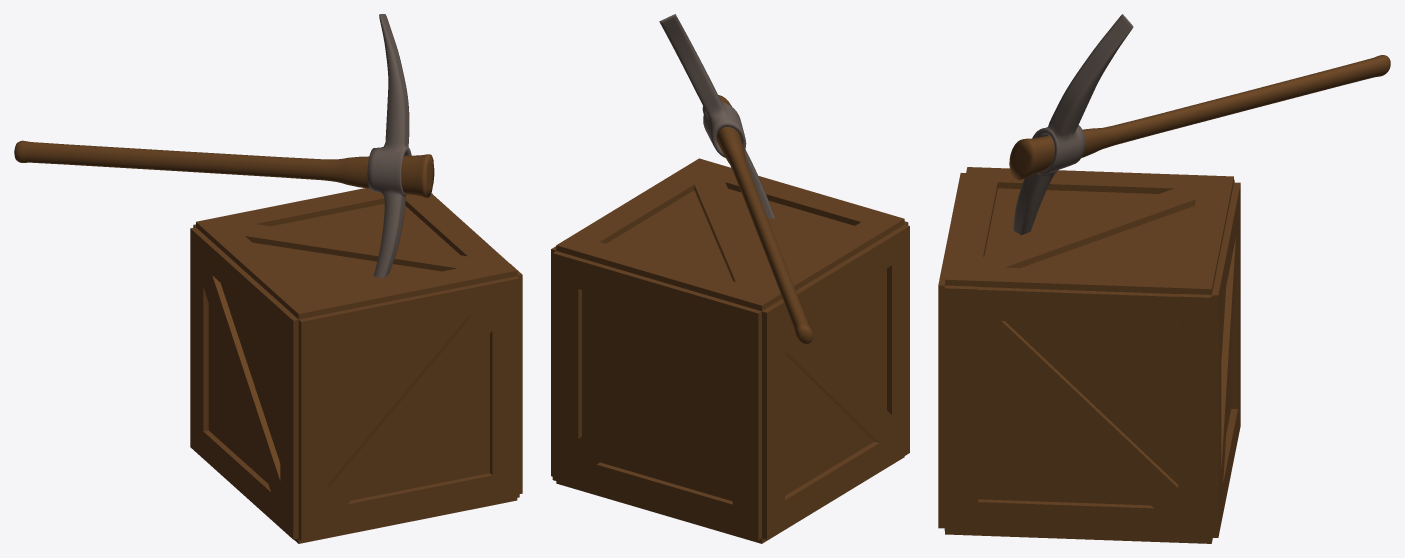
File: pick axe on the crate.fbx
3 views of the same model, side by side, from view 1: azimuth 30°, elevation 25°; view 2: azimuth 150°, elevation 25°; view 3: azimuth 270°, elevation 25° (orthographic). The views are drawn at different scales.
Visible parts, largest first — view 1: Cube.153, Cylinder004.001, Cube.159, Cube.182, Cube.160, Cylinder003.001, Cube.174, Cube.173, Cube.163, Cube.181, Cube.183, Cube.158 (+8 smaller); view 2: Cube.153, Cube.166, Cube.165, Cube.184, Cube.164, Cube.177, Cube.178, Cube.163, Cube.181, Cube.157, Cube.158, Cylinder004.001 (+8 smaller); view 3: Cube.153, Cube.180, Cube.162, Cube.161, Cylinder004.001, Cube.169, Cube.170, Cylinder003.001, Cube.157, Cube.183, Cube.158, Cube.176 (+8 smaller).
Part boxes in pixels (x1,y1,x2,y2): Cube.153: (208, 204, 489, 500); Cylinder004.001: (14, 140, 434, 197); Cube.159: (298, 314, 328, 540); Cube.182: (328, 311, 492, 507); Cube.160: (490, 276, 519, 502); Cylinder003.001: (367, 14, 411, 278); Cube.174: (326, 281, 492, 343); Cube.173: (328, 473, 492, 535); Cube.163: (280, 308, 298, 539); Cube.181: (203, 267, 280, 500); Cube.183: (236, 224, 476, 271); Cube.158: (196, 216, 325, 319); Cube.153: (582, 188, 886, 501); Cube.166: (732, 304, 761, 540); Cube.165: (552, 251, 581, 487); Cube.184: (578, 329, 732, 464); Cube.164: (762, 300, 784, 539); Cube.177: (578, 258, 735, 334); Cube.178: (578, 459, 732, 532); Cube.163: (887, 224, 909, 463); Cube.181: (784, 325, 892, 442); Cube.157: (556, 158, 724, 258); Cube.158: (736, 211, 904, 311); Cylinder004.001: (702, 95, 813, 344); Cube.153: (978, 188, 1231, 536); Cube.180: (977, 319, 1178, 509); Cube.162: (944, 285, 978, 531); Cube.161: (1178, 293, 1211, 540); Cylinder004.001: (1009, 55, 1390, 180); Cube.169: (977, 287, 1178, 327); Cube.170: (977, 499, 1177, 539); Cylinder003.001: (1013, 14, 1133, 234); Cube.157: (945, 265, 1214, 294); Cube.183: (980, 188, 1197, 268); Cube.158: (964, 167, 1233, 195); Cube.176: (1181, 189, 1231, 279).
Bounding box in the file's own units: 6.22 × 7.99 × 6.7.
